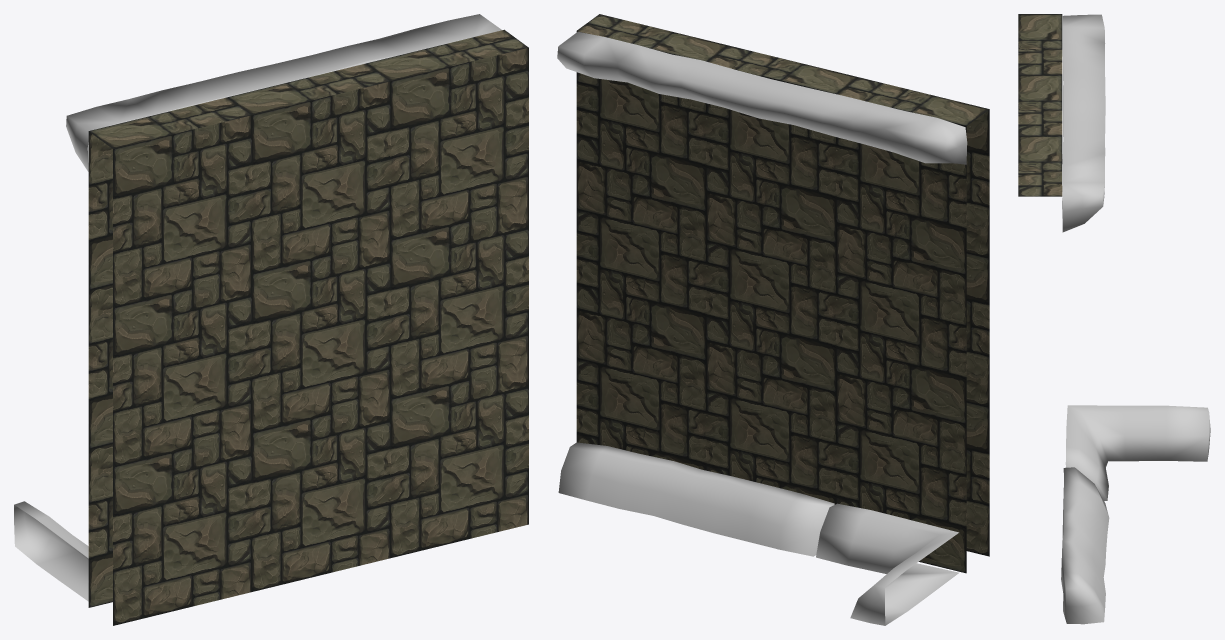
The model's file is wall_R_corner.fbx.
3 renders of one model, left to right at view 1: azimuth 30°, elevation 25°; view 2: azimuth 150°, elevation 25°; view 3: azimuth 270°, elevation 25°, orthographic. The views are drawn at different scales.
Parts seen in each view (by area): view 1: pCube1, polySurface1; view 2: pCube1, polySurface1; view 3: polySurface1, pCube1.
Part boxes in pixels (x1=…): pCube1: x1=88, y1=29, x2=528, y2=625; polySurface1: x1=14, y1=14, x2=501, y2=601; pCube1: x1=576, y1=14, x2=989, y2=573; polySurface1: x1=557, y1=31, x2=967, y2=625; polySurface1: x1=1061, y1=14, x2=1210, y2=624; pCube1: x1=1018, y1=14, x2=1062, y2=196.
Bounding box in the file's own units: 9.85 × 10.77 × 4.36.
